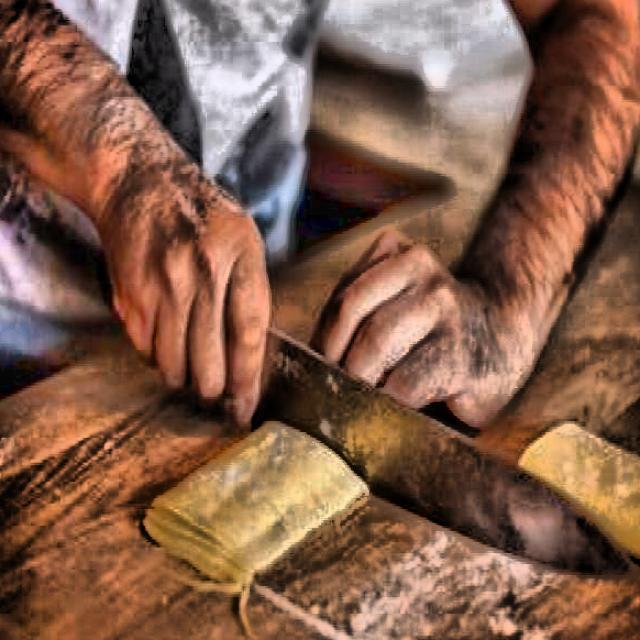knife: (257, 331, 638, 578)
